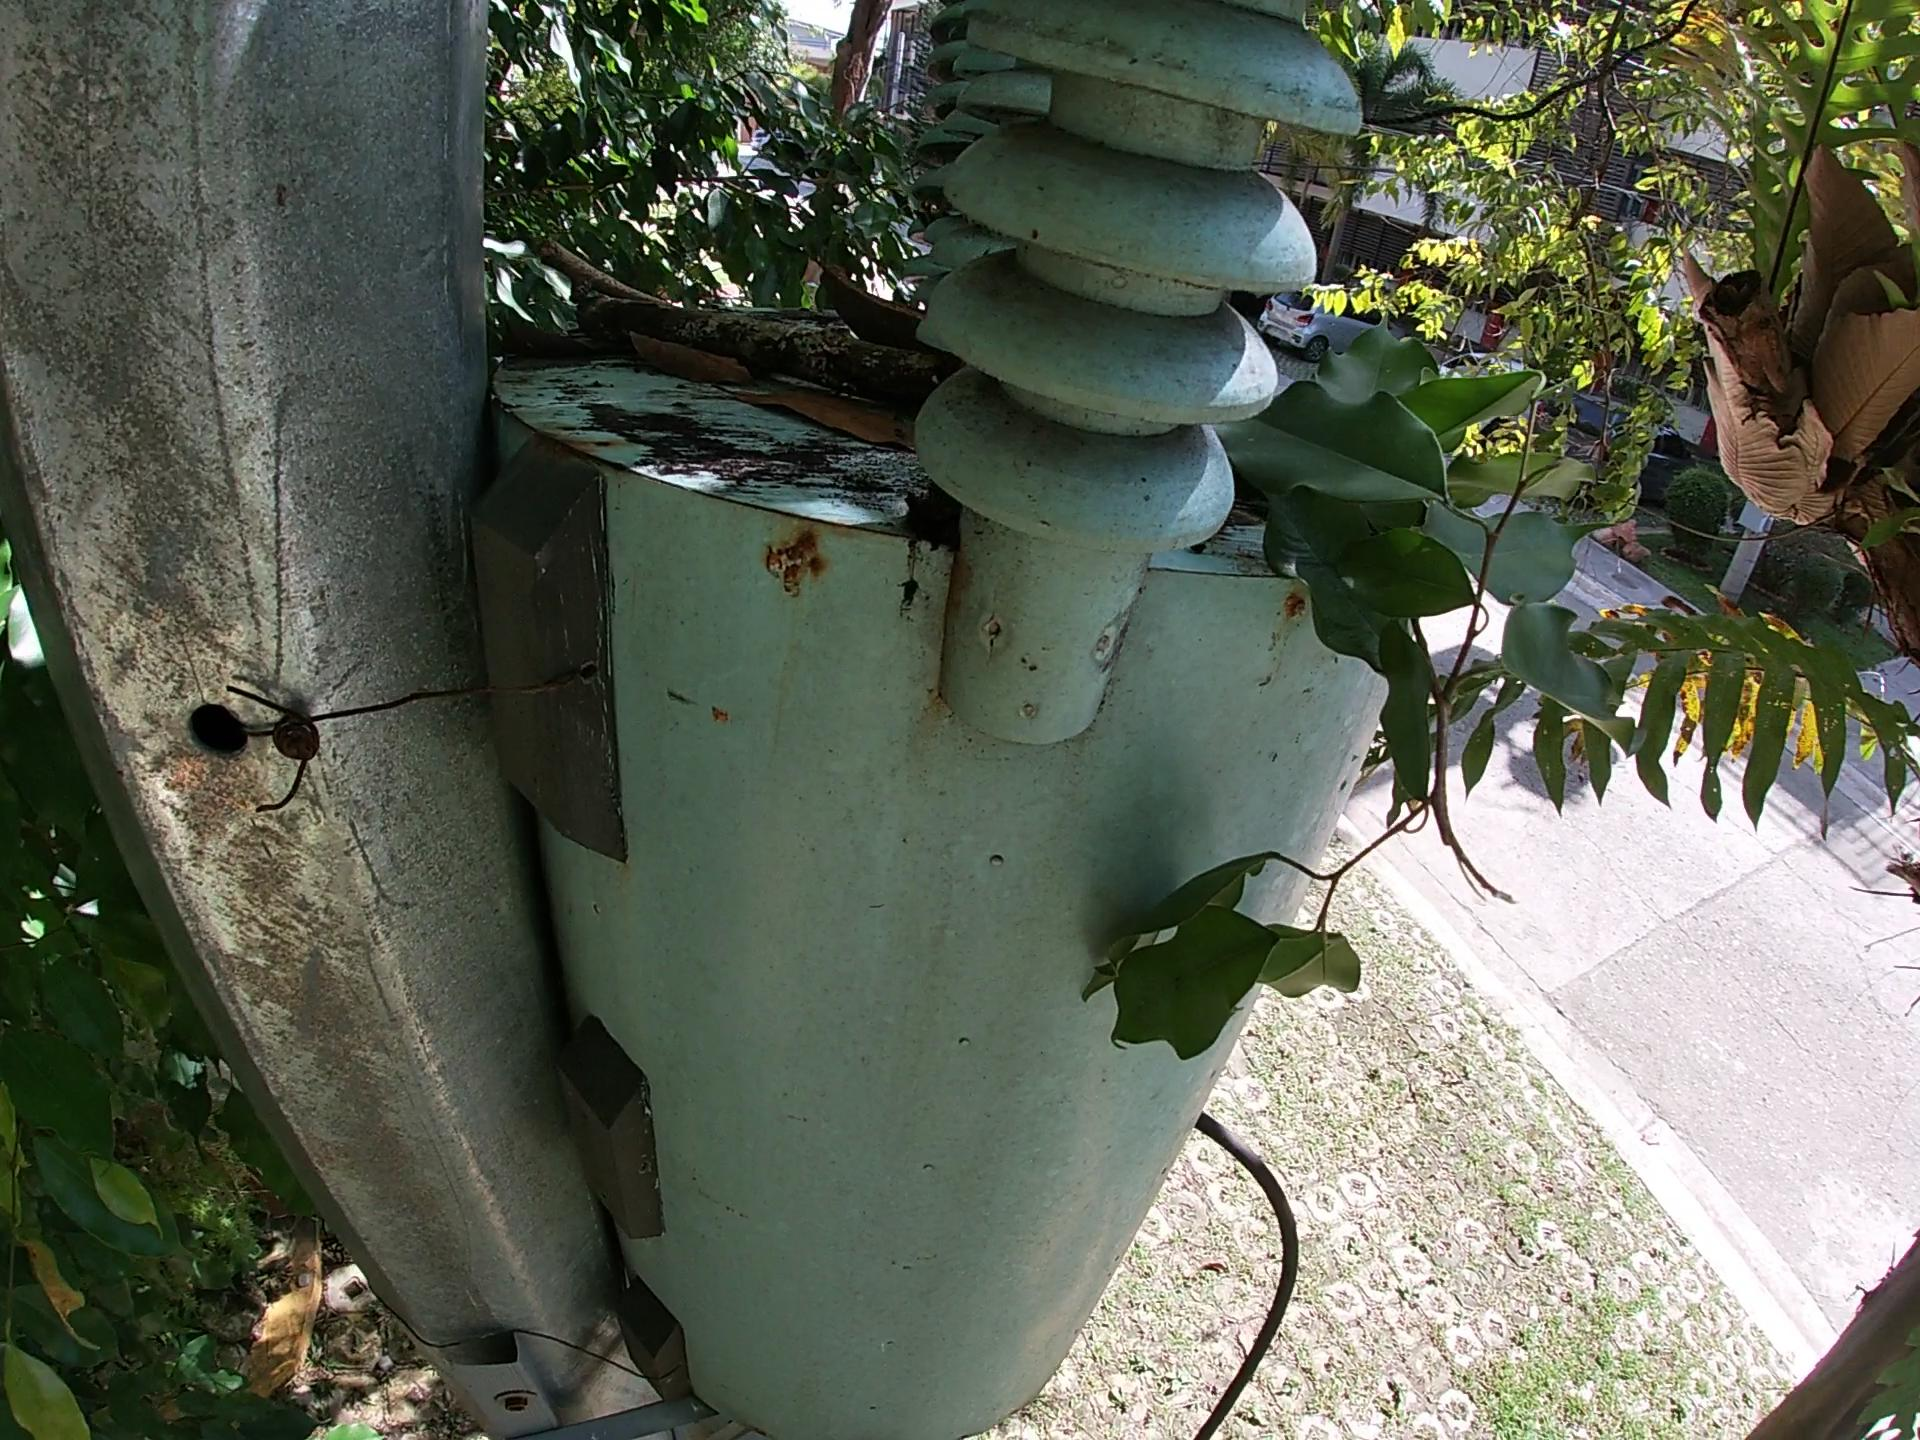branch with leaves: (1075, 312, 1628, 1062)
leaf: (701, 374, 918, 451), (615, 324, 754, 387), (494, 306, 590, 358)
mahogany fruit: (816, 268, 933, 349)
tree branch: (581, 292, 958, 398), (537, 237, 664, 304)
